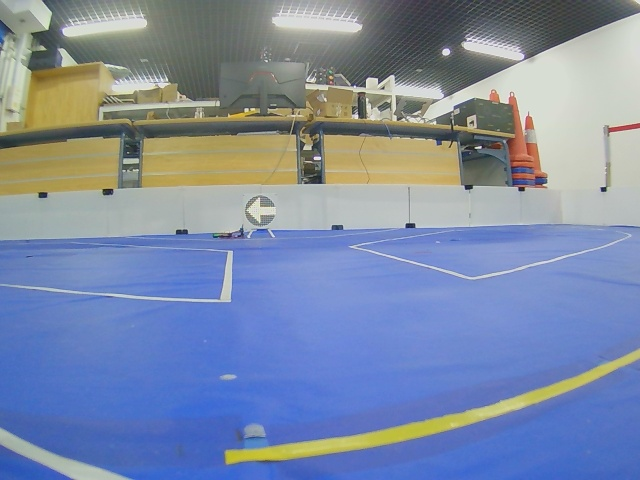left_yellow: (245, 195, 276, 228)
